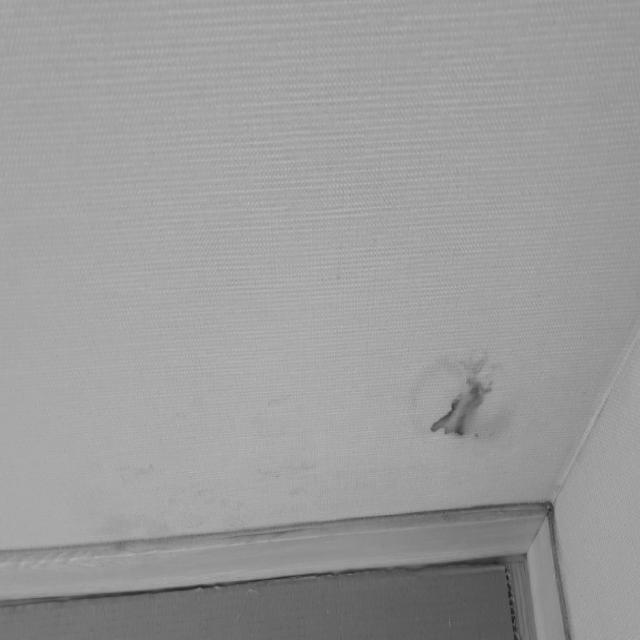stain marks: (410, 344, 512, 448)
